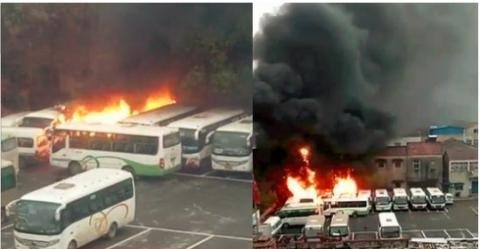fire: (50, 88, 175, 131), (285, 145, 360, 202)
